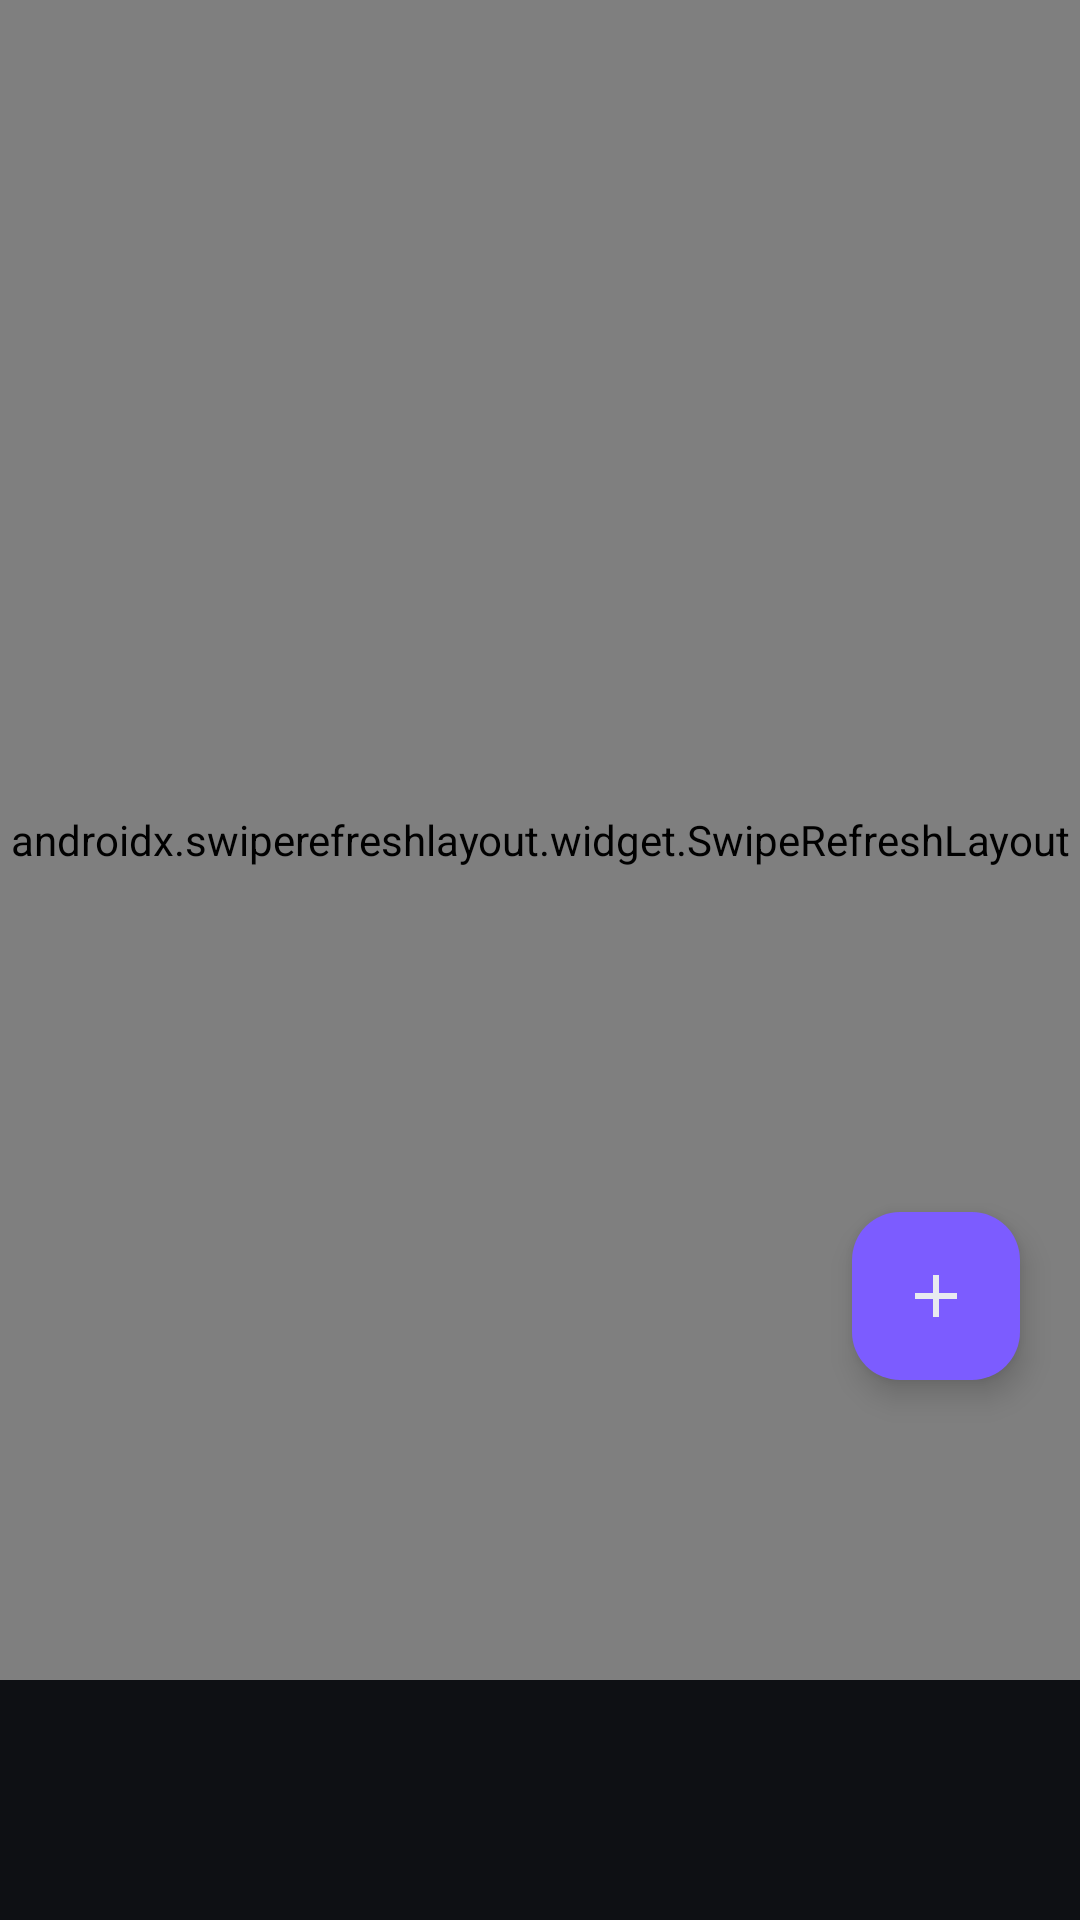

Icon click points for this 1080*1920 phone screenshot, format (x=x, y=y):
安装 .rat 包: (x=936, y=1296)
